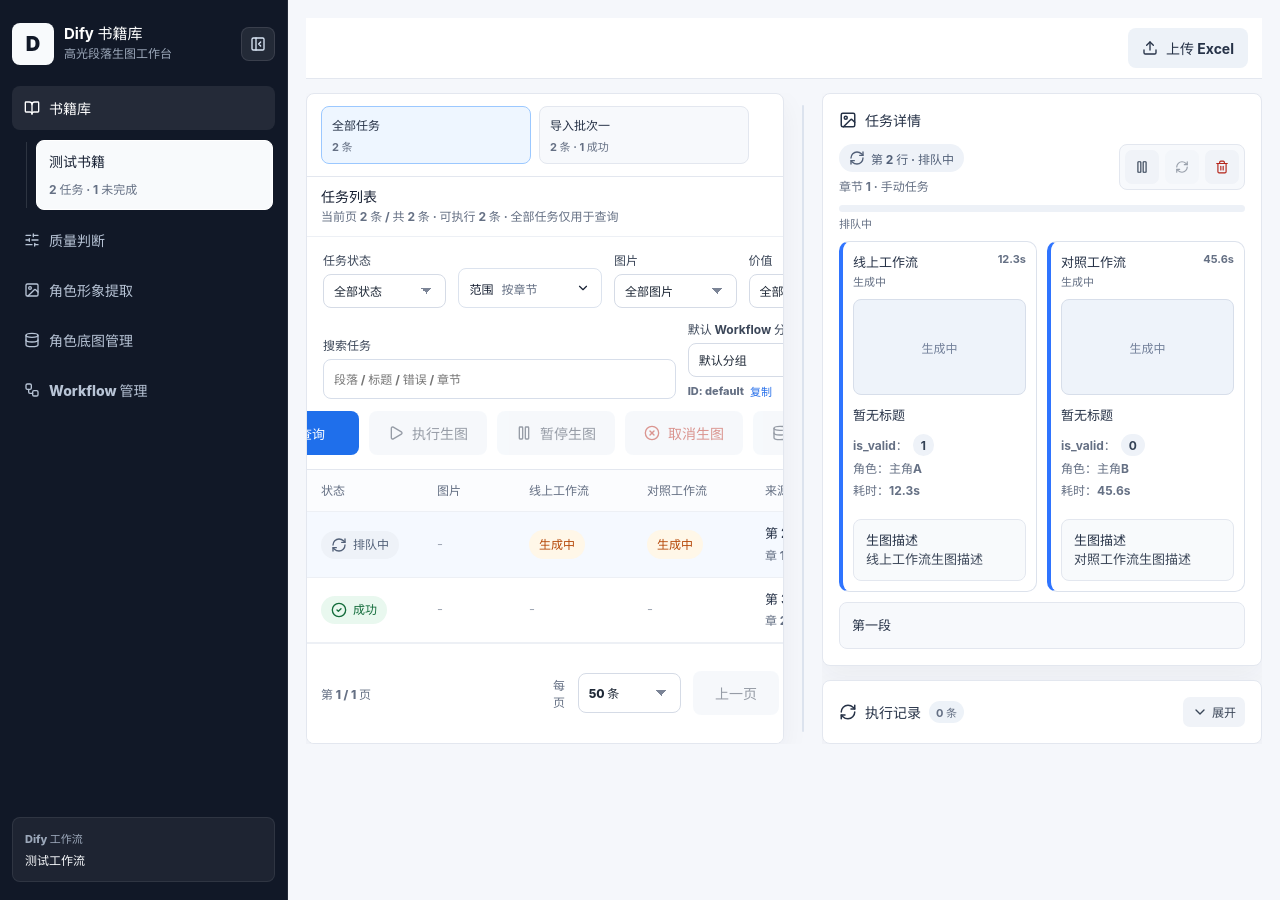
Scenario: BooksManagementPage continue scope › does not mark the current book as running when only another book is running in the same batch
Click the button "导入批次一 2 条 · 1 成功" at {"x": 644, "y": 135}, box x1=540 y1=107 x2=748 y2=163
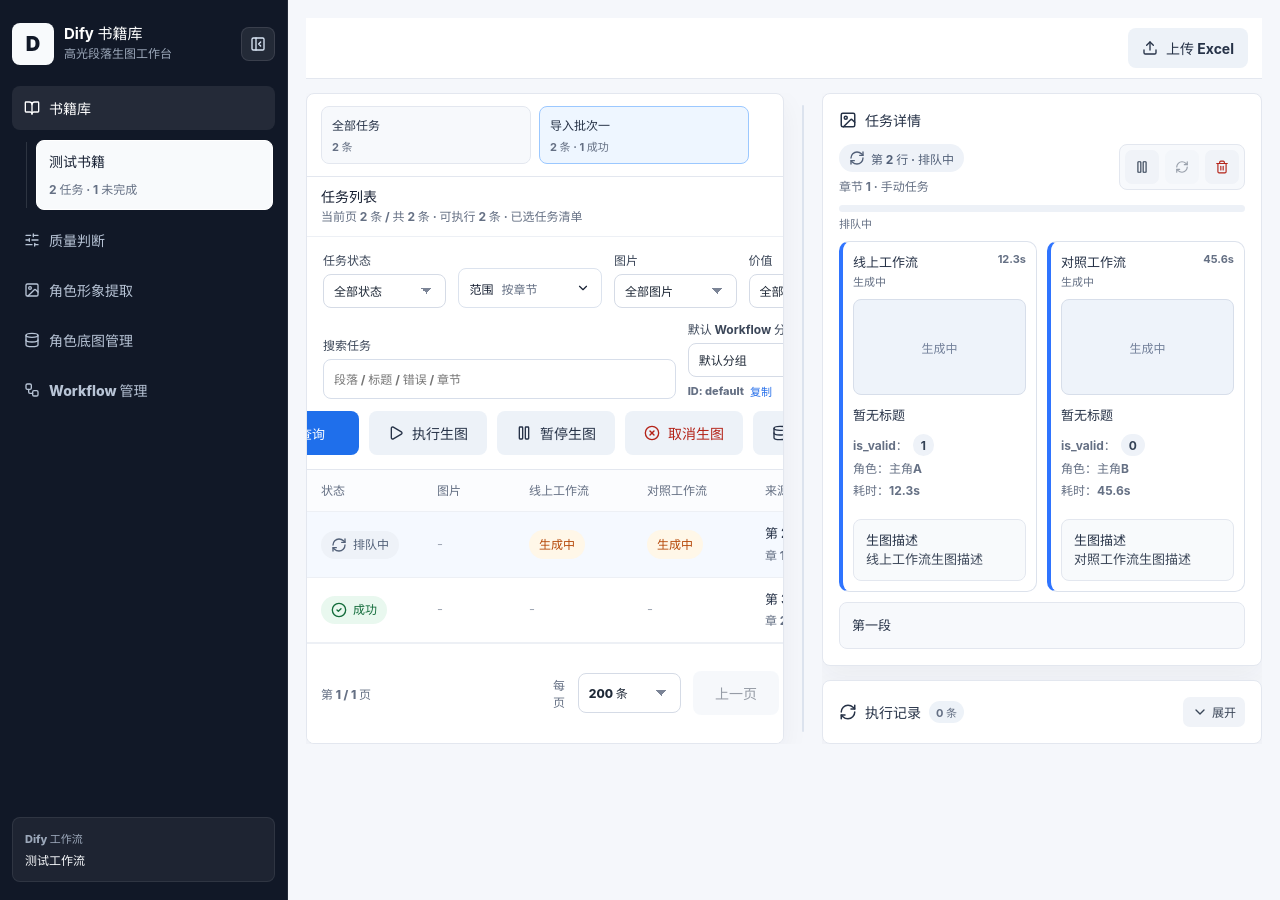
Expected: the button "执行生图" is enabled, x1=369 y1=411 x2=487 y2=455
